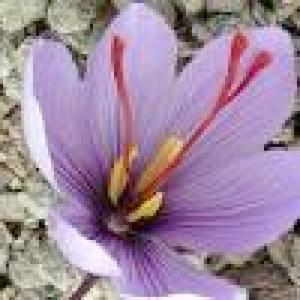Saffron: (32, 3, 300, 300)
